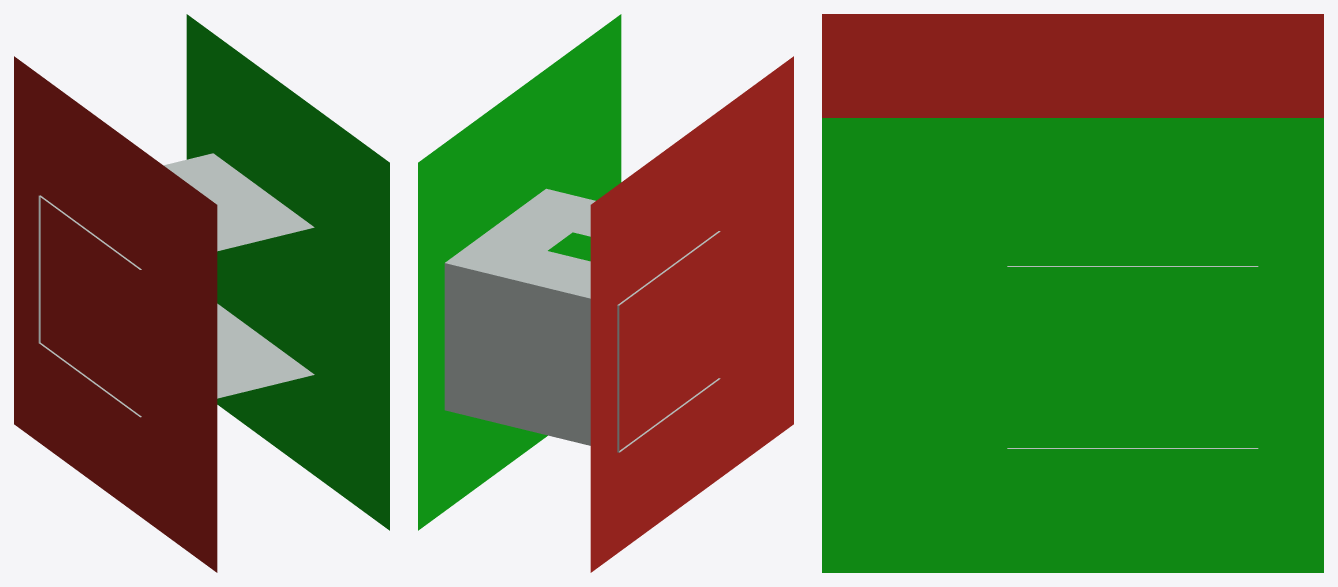
The model's file is cornell_simple.fbx.
3 views of the same model, side by side, from view 1: azimuth 30°, elevation 25°; view 2: azimuth 150°, elevation 25°; view 3: azimuth 270°, elevation 25° (orthographic). The views are drawn at different scales.
Visible parts, largest first — view 1: Plane, Plane.001, Cube; view 2: Plane, Plane.001, Cube; view 3: Plane.001, Plane.
Part boxes in pixels (x1,y1,x2,y2): Plane: (14,56,217,572); Plane.001: (186,14,389,530); Cube: (38,153,314,417); Plane: (590,56,793,572); Plane.001: (418,14,621,530); Cube: (444,188,720,452); Plane.001: (822,118,1323,572); Plane: (822,14,1323,117).
Bounding box in the file's own units: 10 × 20 × 20.
